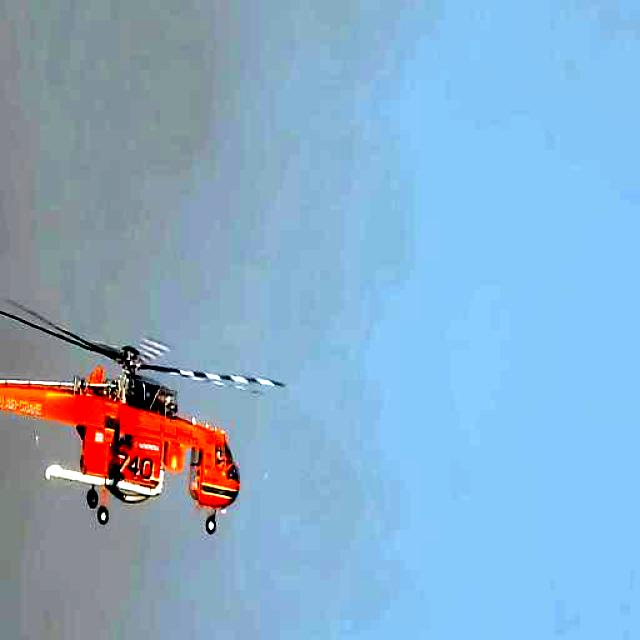drone: (0, 252, 286, 541)
